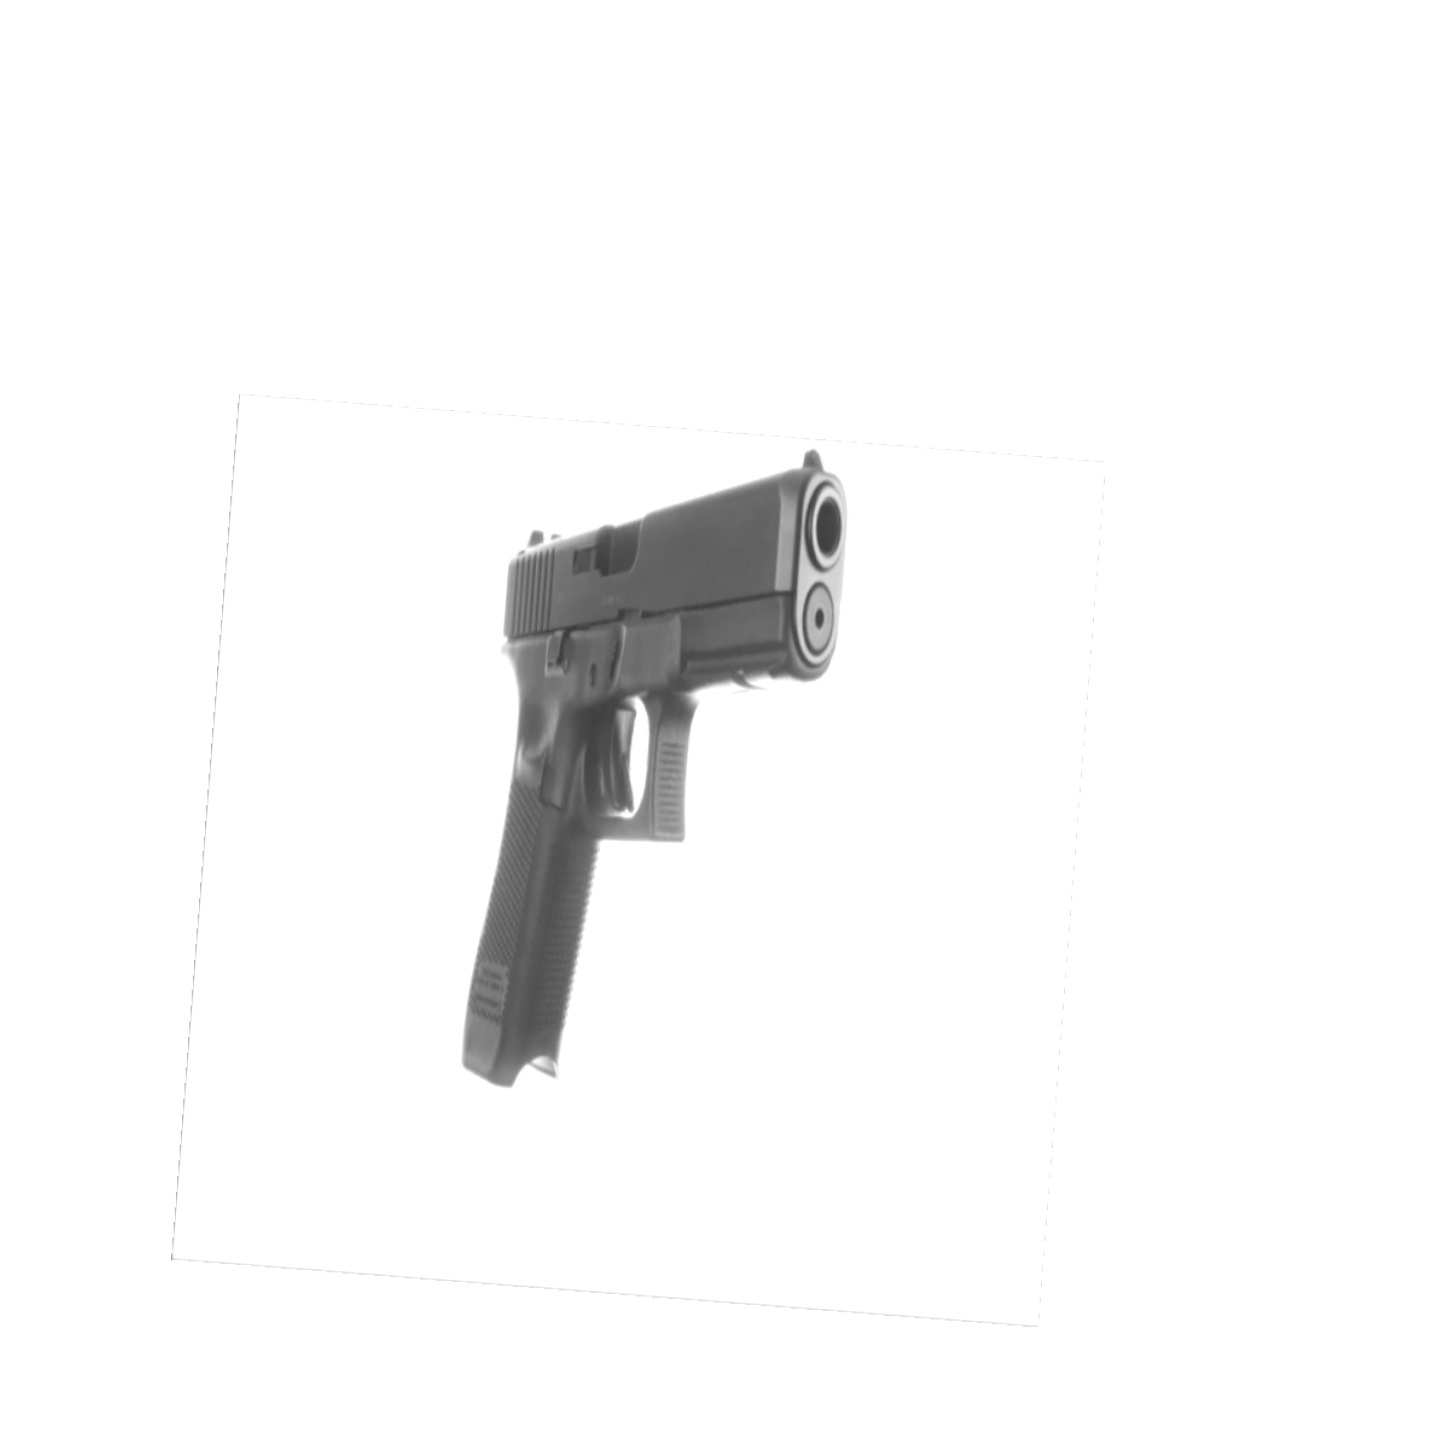gun: (444, 445, 865, 1088)
